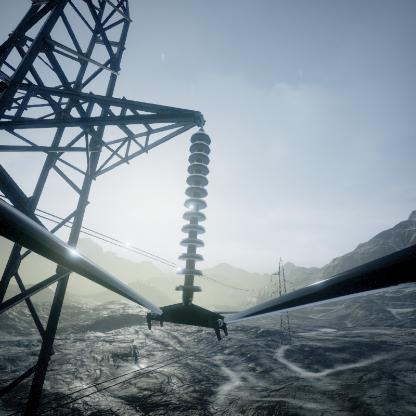insulator: (175, 128, 218, 302)
